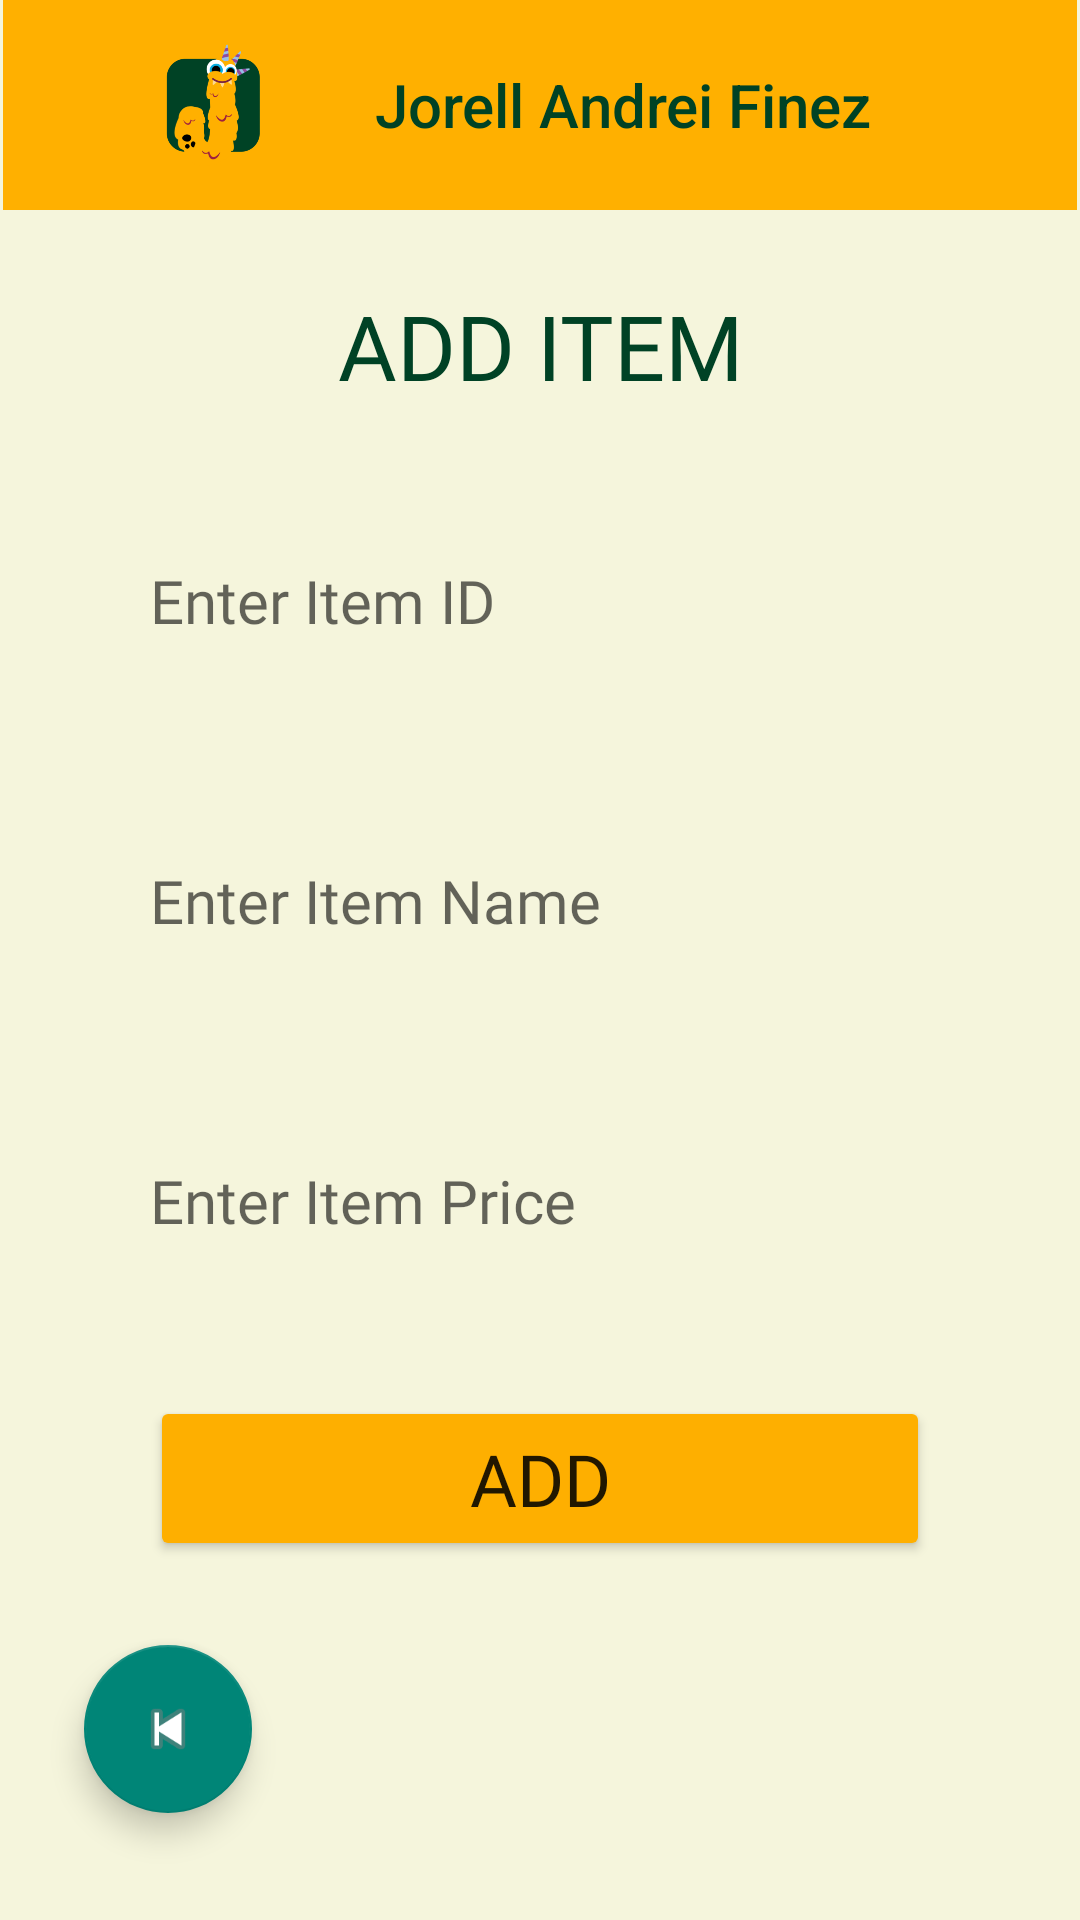

Icon click points for this 1080px x 1920px phone screenshot, format point (x, y):
previous: point (168, 1729)
